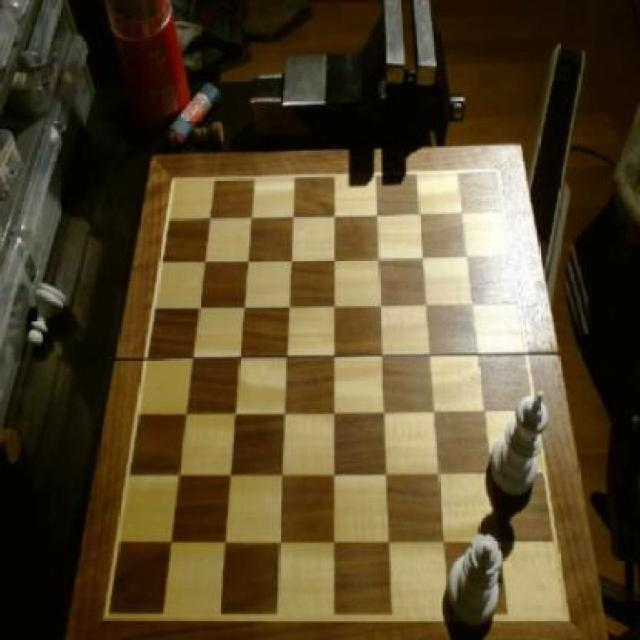white-bishop: (489, 391, 548, 498)
white-pawn: (448, 531, 507, 632)
